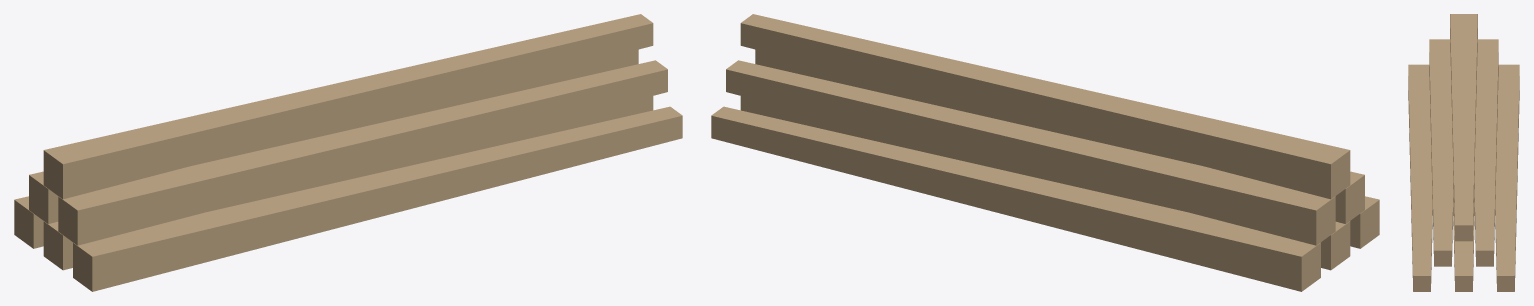
Rendered from prop-spoke-blank-stack.fbx.
The picture shows the model from 3 angles, left to right: view 1: azimuth 30°, elevation 25°; view 2: azimuth 150°, elevation 25°; view 3: azimuth 270°, elevation 25°; orthographic projection. The views are drawn at different scales.
Parts seen in each view (by area): view 1: prop-spoke-blank-stack; view 2: prop-spoke-blank-stack; view 3: prop-spoke-blank-stack.
Boxes of the visible parts, x1,y1,x2,y2 form: prop-spoke-blank-stack: (14, 14, 682, 291); prop-spoke-blank-stack: (711, 14, 1379, 291); prop-spoke-blank-stack: (1408, 14, 1519, 291).
Size of the model in its own units: 70 by 11.96 by 15.96.
